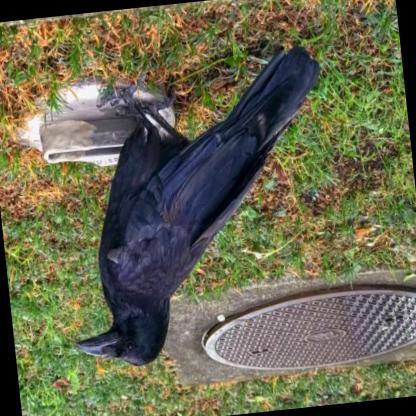manholes: (184, 250, 416, 401)
